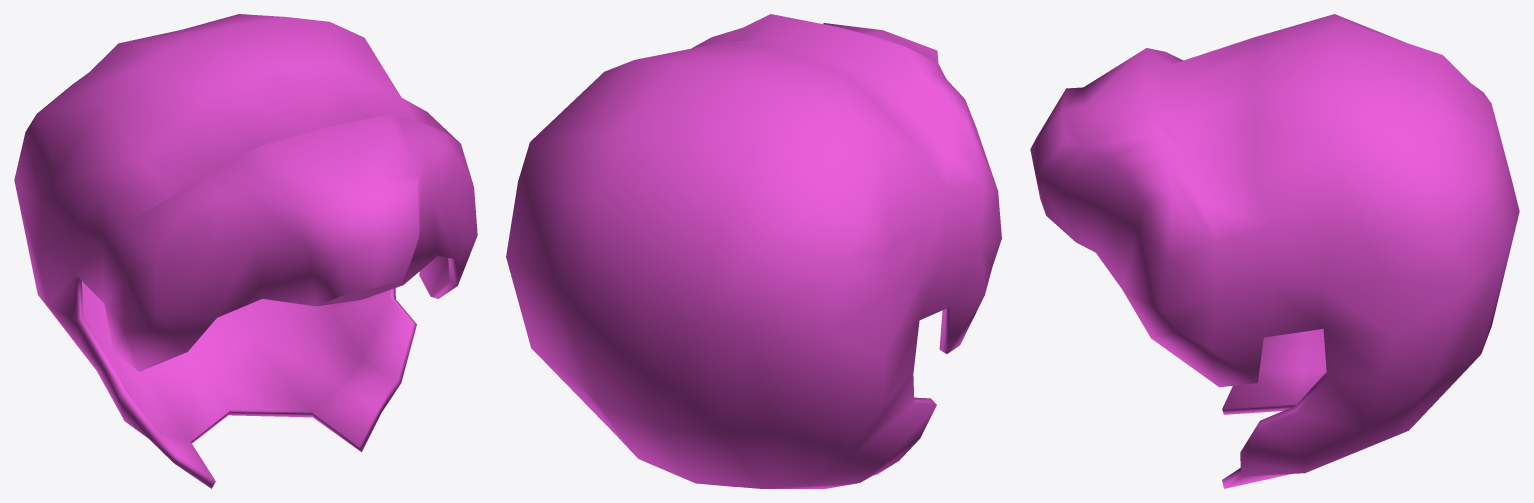
Rendered from character hair 10.fbx.
3 views of the same model, side by side, from view 1: azimuth 30°, elevation 25°; view 2: azimuth 150°, elevation 25°; view 3: azimuth 270°, elevation 25° (orthographic). The views are drawn at different scales.
Visible parts, largest first — view 1: hair10; view 2: hair10; view 3: hair10.
Boxes of the visible parts, x1=… form: hair10: x1=14, y1=14, x2=477, y2=488; hair10: x1=506, y1=14, x2=1001, y2=488; hair10: x1=1030, y1=14, x2=1519, y2=488.
Bounding box in the file's own units: 0.4219 × 0.4726 × 0.5184.
